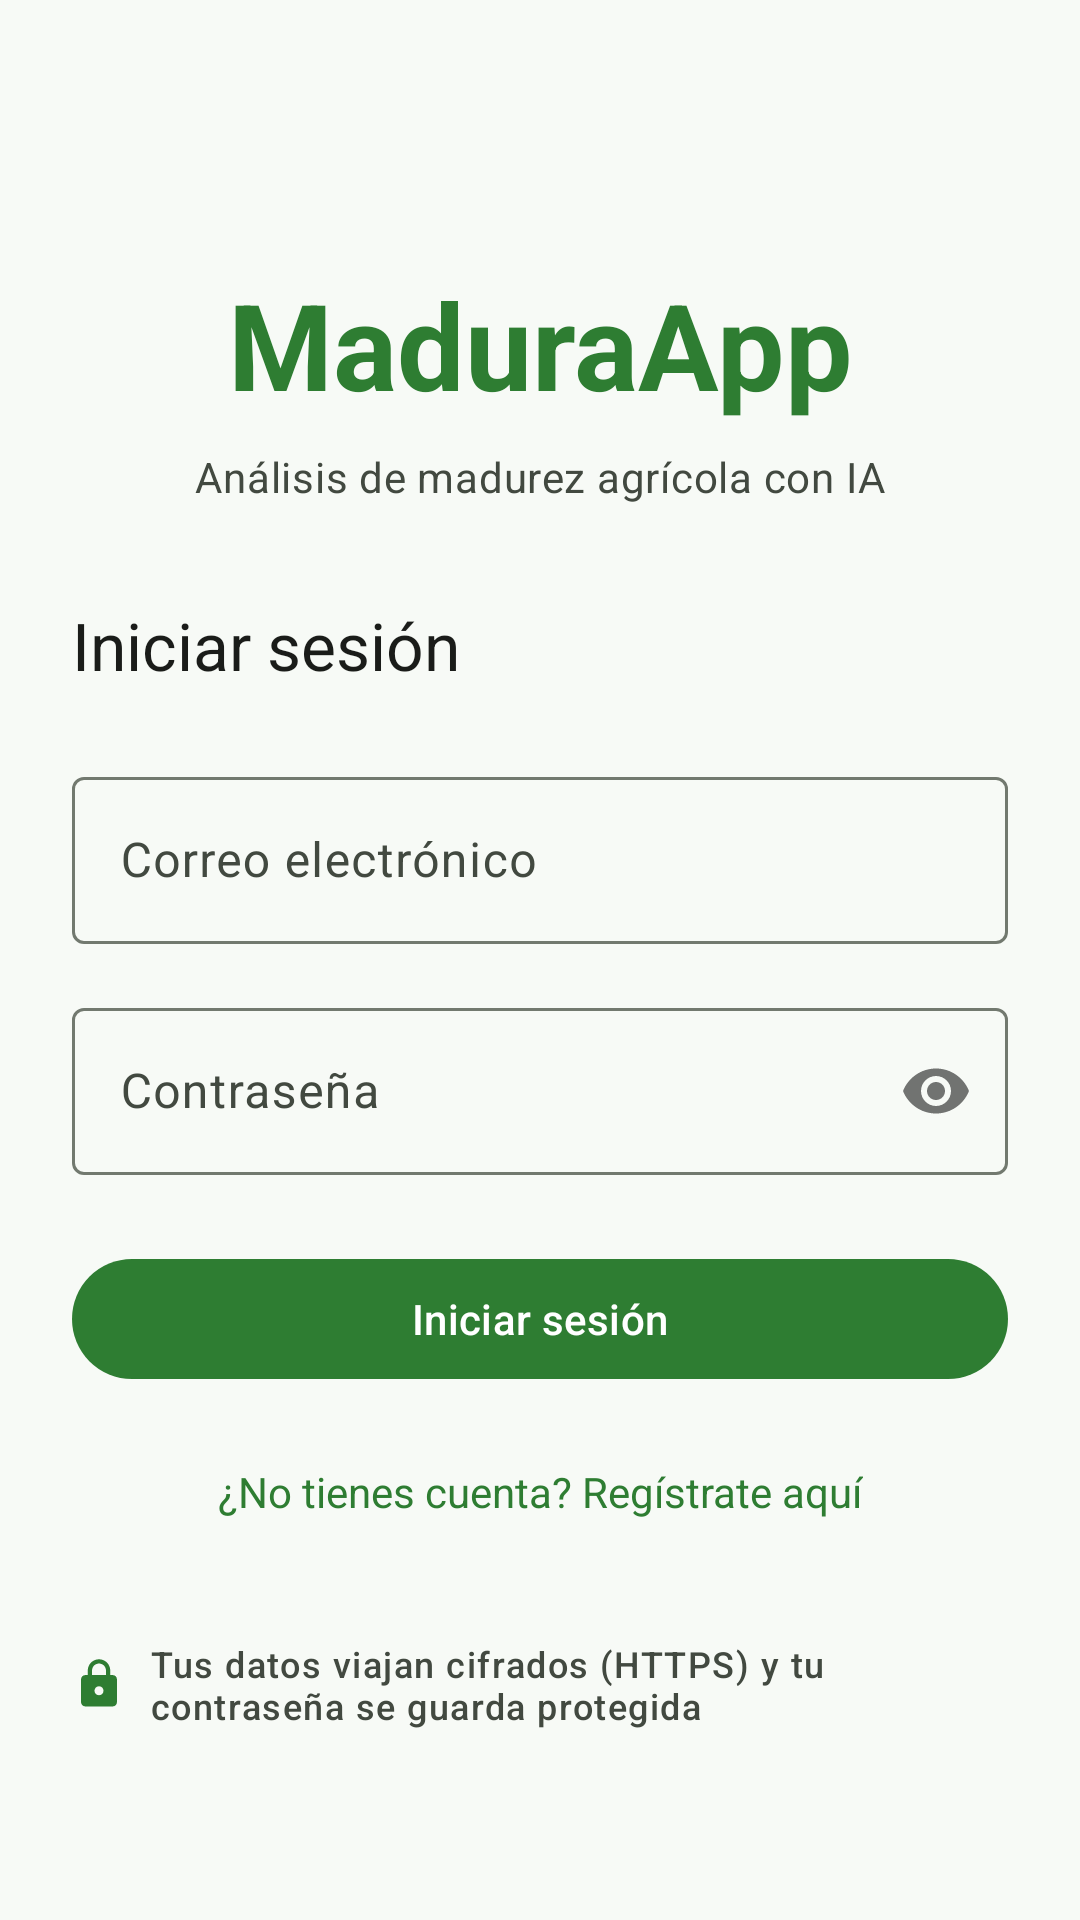

Icon click points for this 1080w x 1920h phone screenshot, format [x,y]:
Conexión cifrada: [99,1683]
